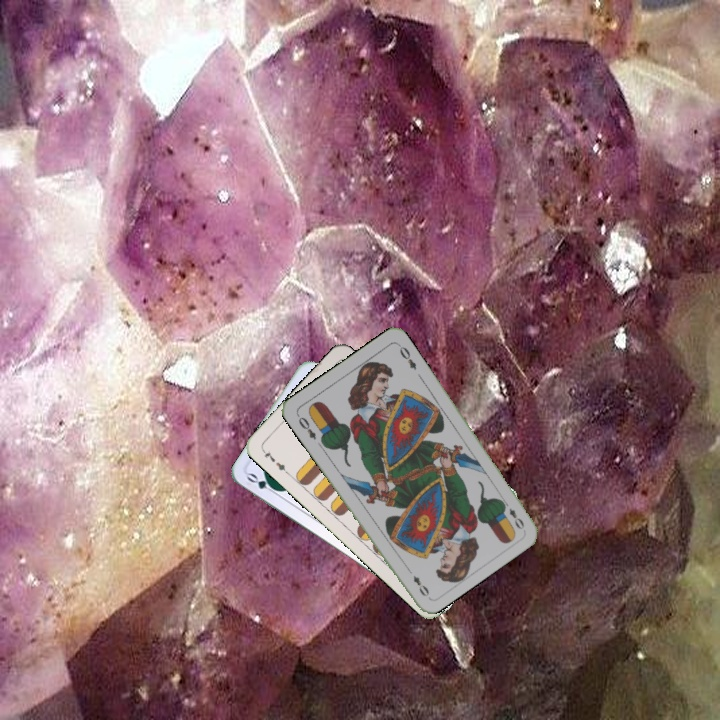E7: (258, 445, 291, 477)
EO: (498, 496, 527, 532), (293, 410, 319, 442)
GO: (243, 469, 282, 497)
